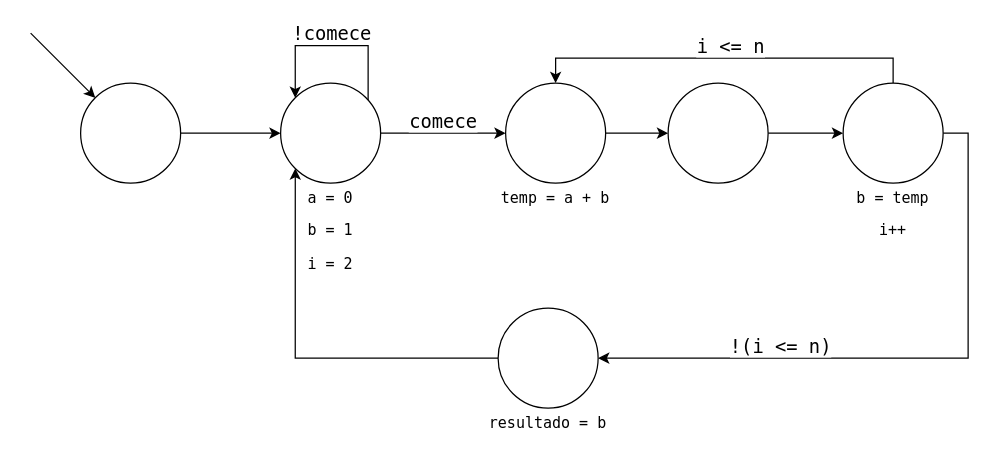
This 1000x468 diagram has some shape labels left out. Here are the shapes that lost their labels. From the top down, the centre of each, then its label:
At pixel 130 132: "resultado = 0".
At pixel 717 132: "a = b".
